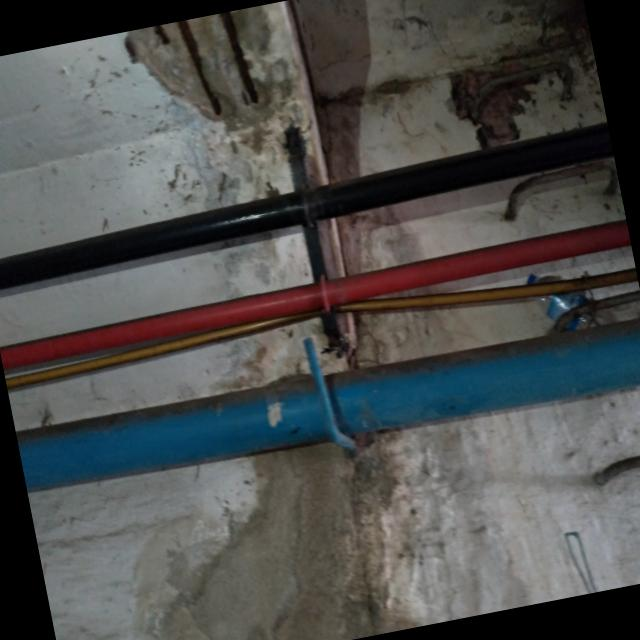gas: (16, 311, 640, 498), (0, 120, 617, 295), (0, 219, 633, 374)
